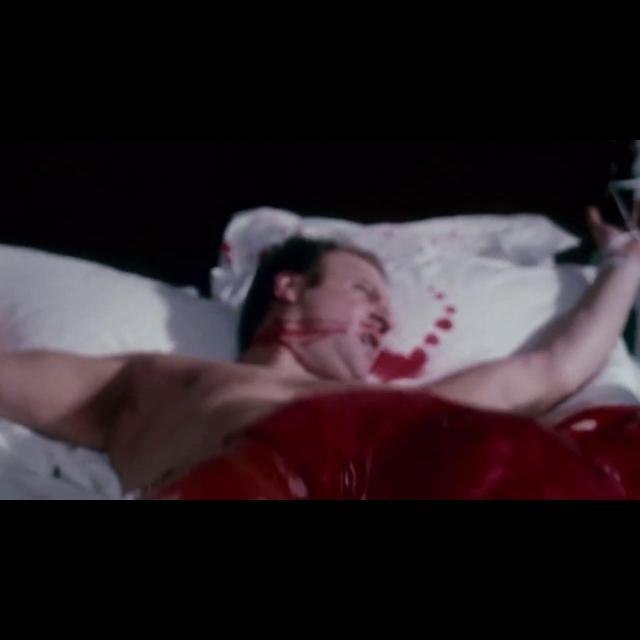blood: (150, 389, 640, 500), (240, 268, 356, 367), (360, 307, 455, 383)
